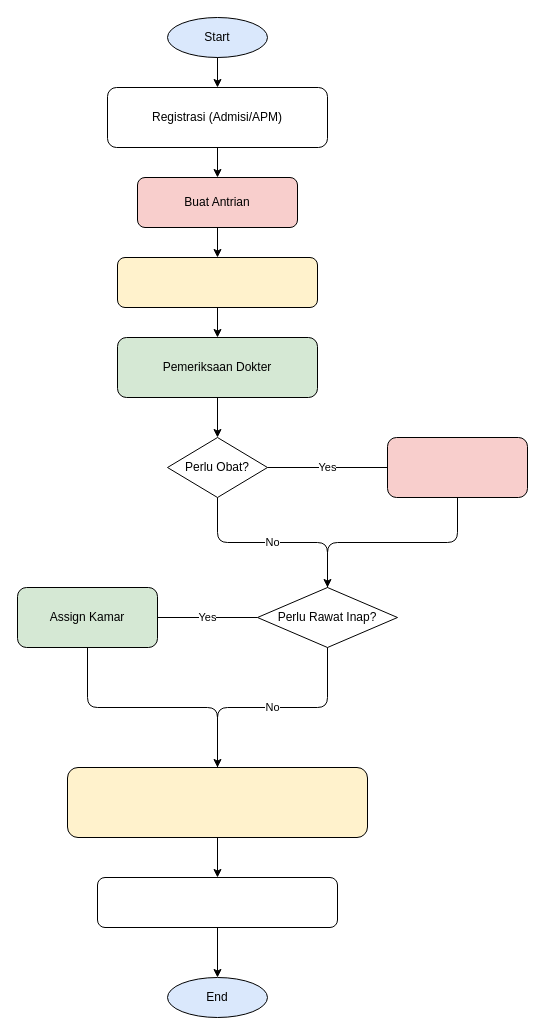
Some shapes in this 545 by 1035 pixel diagram are drawn without their labels. The shapes that lost their labels are listed below. From the top down, each one's centre as x and y in pixels, then its label:
point 217,282: Tunggu Panggilan
point 457,467: Farmasi\n(Ambil Obat)
point 217,802: Pembayaran (Kasir)\nBPJS/Umum/Asuransi
point 217,902: Simpan ke Rekam Medis
